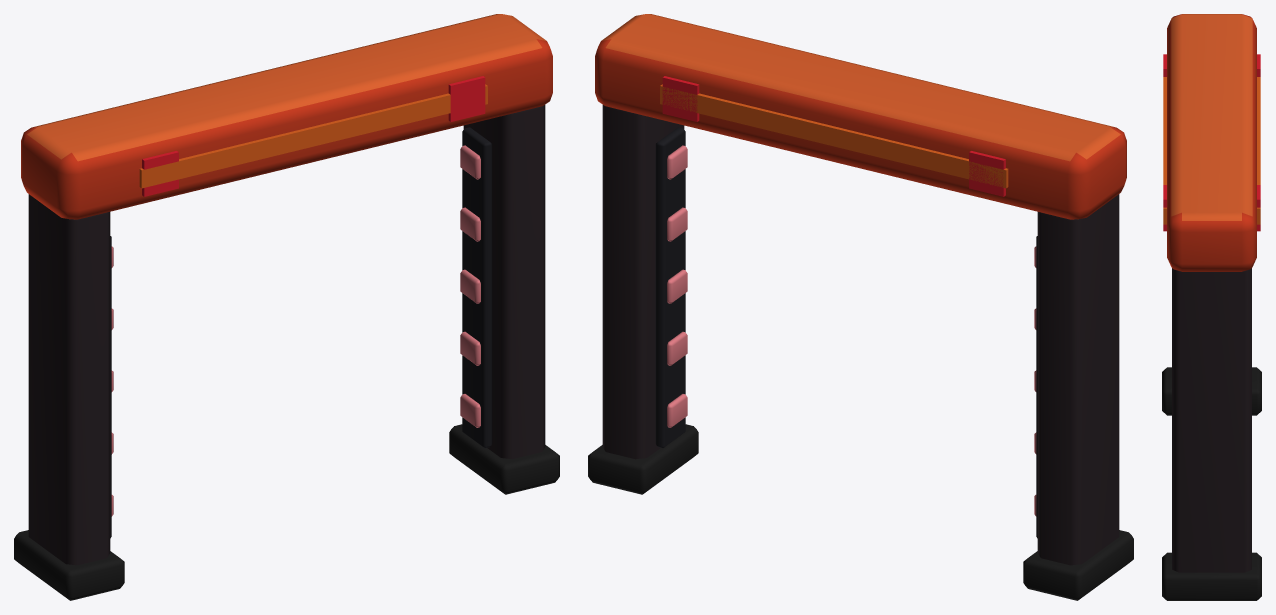
The model's file is candy-gateframe.glb.
3 views of the same model, side by side, from view 1: azimuth 30°, elevation 25°; view 2: azimuth 150°, elevation 25°; view 3: azimuth 270°, elevation 25° (orthographic). The views are drawn at different scales.
Visible parts, largest first — view 1: candy-gateframe; view 2: candy-gateframe; view 3: candy-gateframe.
Boxes of the visible parts, x1,y1,x2,y2 form: candy-gateframe: (14,14,559,600); candy-gateframe: (588,14,1133,600); candy-gateframe: (1162,14,1261,600).
Size of the model in its own units: 2 by 1.7 by 0.4.
